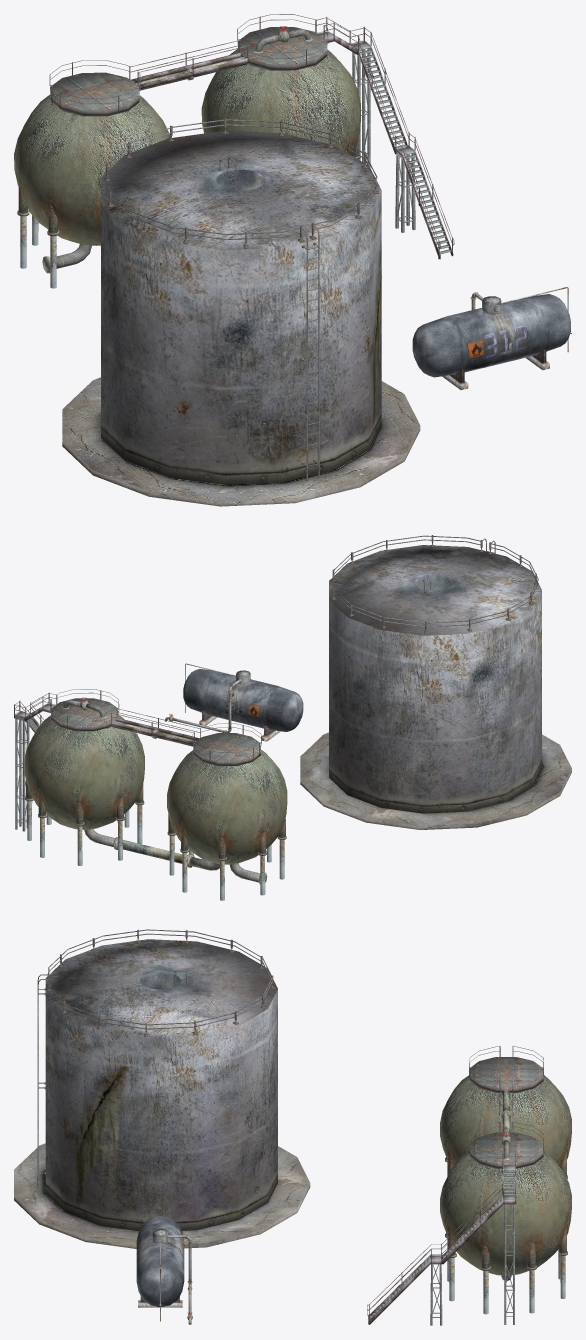
File: tanks.glb
The picture shows the model from 3 angles, top to bottom: view 1: azimuth 30°, elevation 25°; view 2: azimuth 150°, elevation 25°; view 3: azimuth 270°, elevation 25°; orthographic projection. The views are drawn at different scales.
Visible parts, largest first — view 1: pCylinder2_Large_tank_0, Round_TankA_Legs_Round_Tank_Material_0, PipeBendC_lambert3_0, Long_Tank:ThickbendA_Long_Tank:Long_TankA_Material_0; view 2: pCylinder2_Large_tank_0, Round_TankA_Legs_Round_Tank_Material_0, Long_Tank:ThickbendA_Long_Tank:Long_TankA_Material_0, PipeBendC_lambert3_0; view 3: pCylinder2_Large_tank_0, Round_TankA_Legs_Round_Tank_Material_0, PipeBendC_lambert3_0, Long_Tank:ThickbendA_Long_Tank:Long_TankA_Material_0.
Boxes of the visible parts, left/top/right/bottom form: pCylinder2_Large_tank_0: left=62, top=118, right=420, bottom=506; Round_TankA_Legs_Round_Tank_Material_0: left=14, top=27, right=360, bottom=288; PipeBendC_lambert3_0: left=42, top=14, right=454, bottom=273; Long_Tank:ThickbendA_Long_Tank:Long_TankA_Material_0: left=412, top=287, right=571, bottom=389; pCylinder2_Large_tank_0: left=300, top=535, right=571, bottom=829; Round_TankA_Legs_Round_Tank_Material_0: left=24, top=698, right=287, bottom=900; Long_Tank:ThickbendA_Long_Tank:Long_TankA_Material_0: left=165, top=663, right=303, bottom=741; PipeBendC_lambert3_0: left=14, top=689, right=267, bottom=884; pCylinder2_Large_tank_0: left=14, top=929, right=310, bottom=1248; Round_TankA_Legs_Round_Tank_Material_0: left=440, top=1057, right=571, bottom=1314; PipeBendC_lambert3_0: left=367, top=1046, right=544, bottom=1325; Long_Tank:ThickbendA_Long_Tank:Long_TankA_Material_0: left=136, top=1216, right=192, bottom=1324.
Bounding box in the file's own units: 28.42 × 14.38 × 33.45.
Materials: 5 (5 with a texture image).
